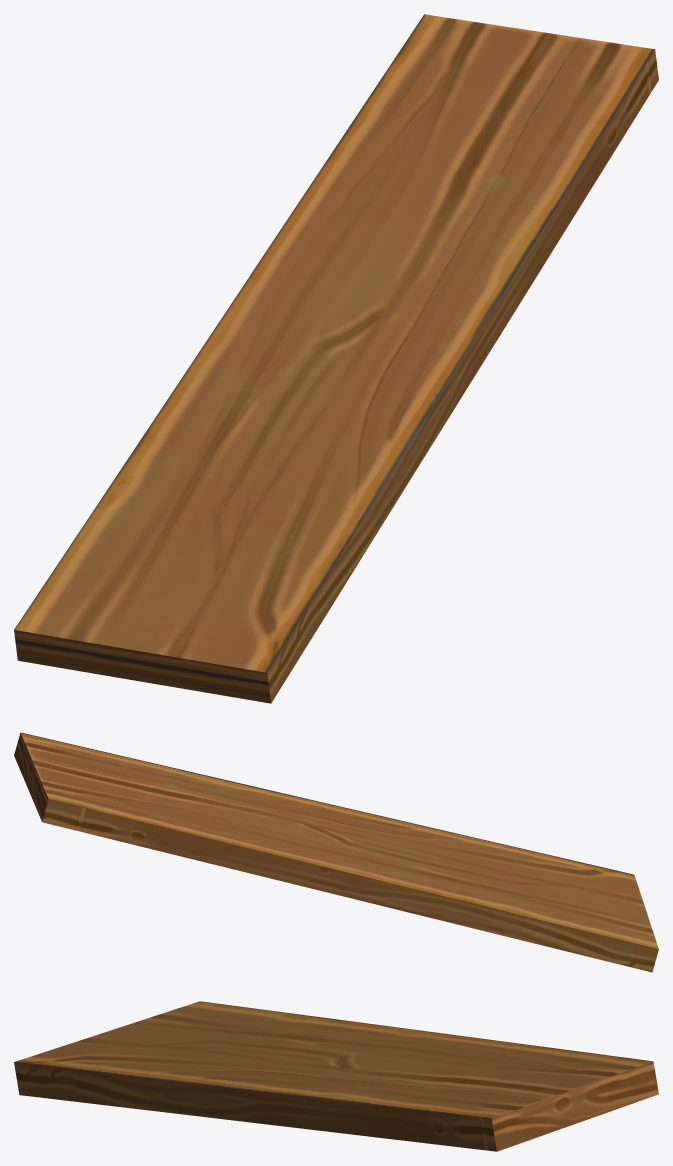
3 renders of one model, top to bottom at view 1: azimuth 30°, elevation 25°; view 2: azimuth 150°, elevation 25°; view 3: azimuth 270°, elevation 25°, orthographic. The views are drawn at different scales.
Visible parts, largest first — view 1: Cube.646; view 2: Cube.646; view 3: Cube.646.
Part boxes in pixels (<box>): Cube.646: <box>14,14,658,703</box>; Cube.646: <box>14,732,658,972</box>; Cube.646: <box>14,1001,658,1151</box>.
Size of the model in its own units: 313 by 108 by 248.
Materials: 1 (1 with a texture image).
